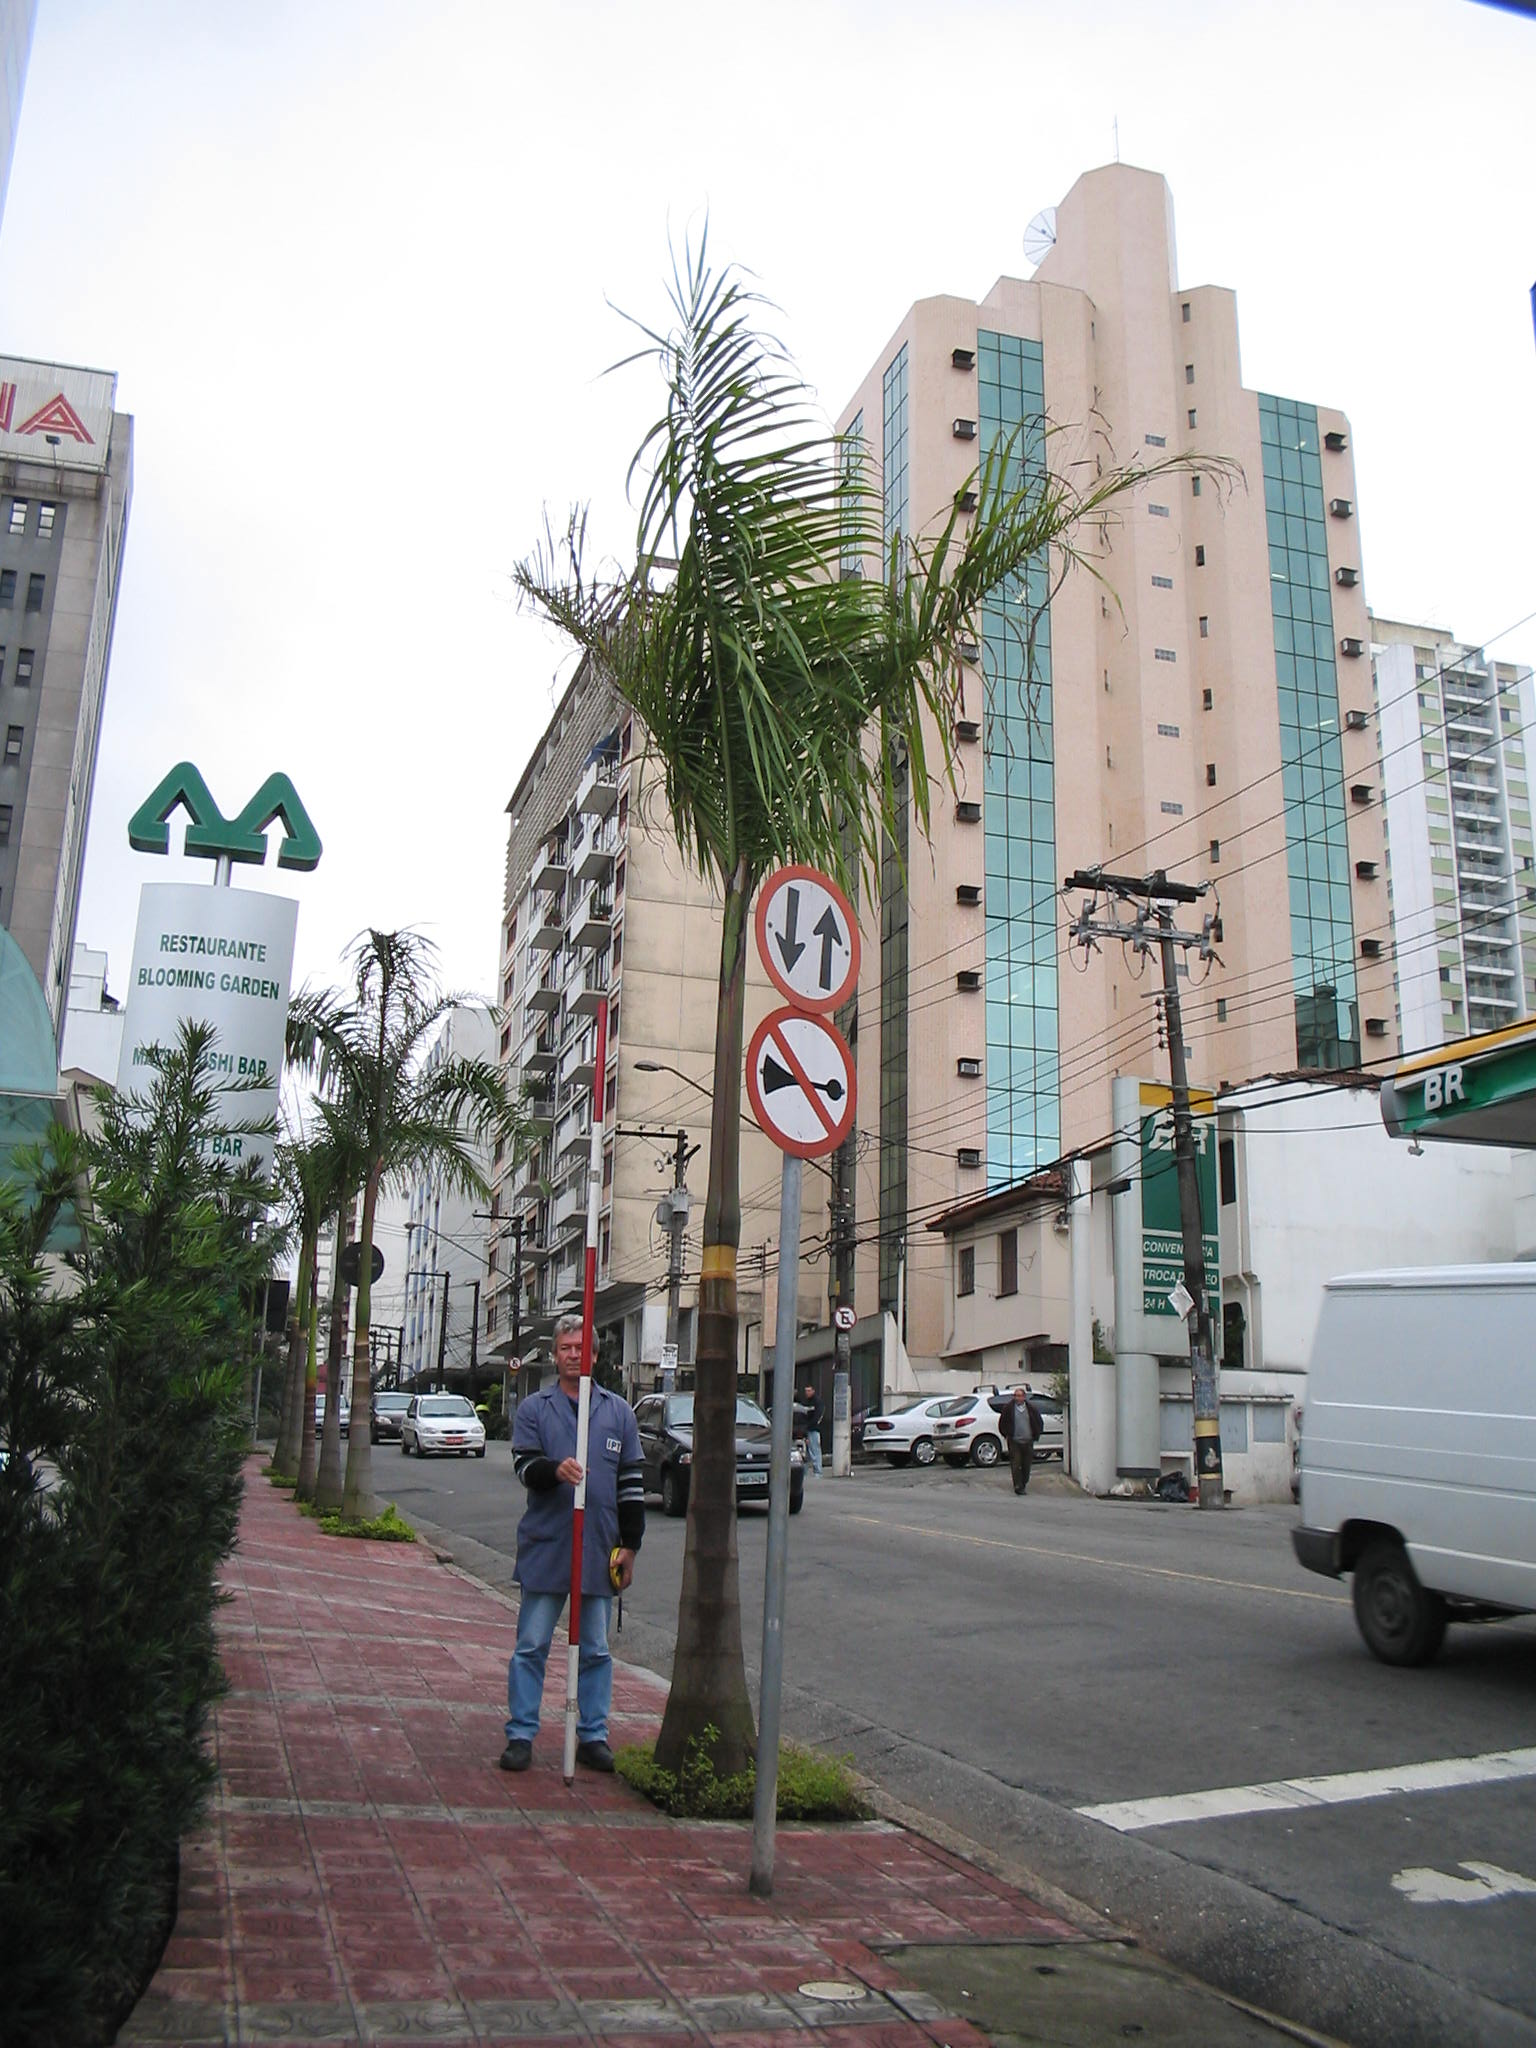crown: (515, 205, 1241, 1034)
stem: (639, 1034, 795, 1784)
stick: (545, 990, 626, 1779)
tree: (510, 205, 1244, 1792)
